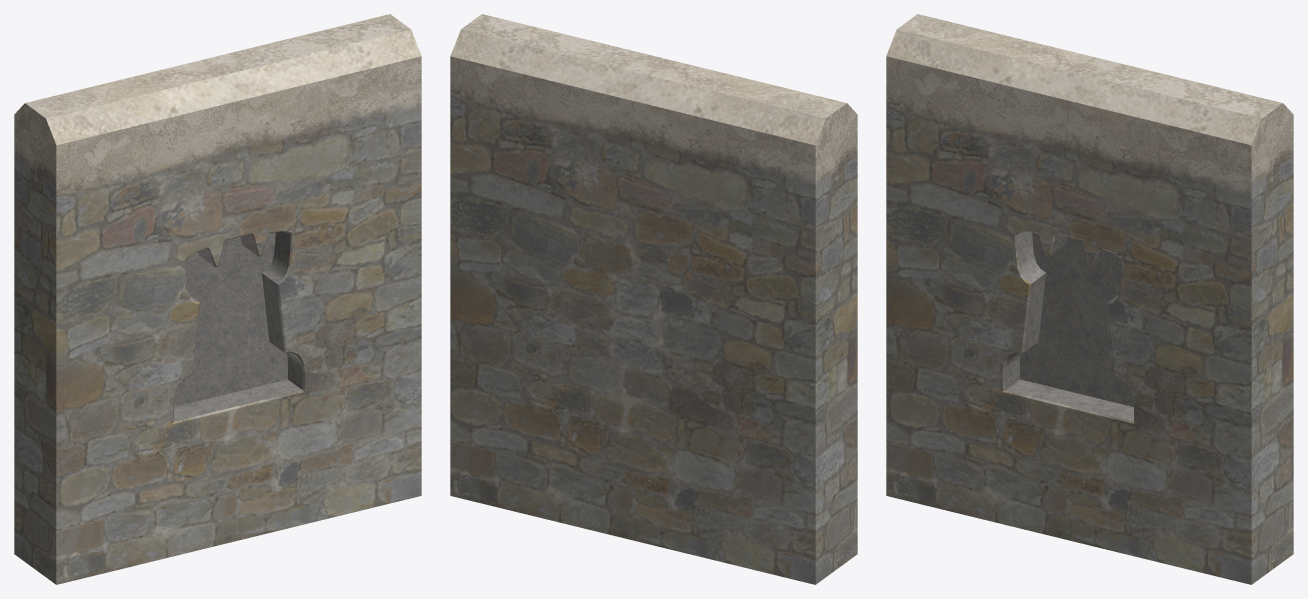
Rendered from Wall_wHole.glb.
3 views of the same model, side by side, from view 1: azimuth 30°, elevation 25°; view 2: azimuth 150°, elevation 25°; view 3: azimuth 330°, elevation 25° (orthographic).
Parts seen in each view (by area): view 1: Wall_wHole; view 2: Wall_wHole; view 3: Wall_wHole.
Boxes of the visible parts, box(x1,y1,x2,y2) form: Wall_wHole: box(14, 14, 421, 584); Wall_wHole: box(450, 14, 857, 584); Wall_wHole: box(886, 14, 1293, 584).
Size of the model in its own units: 0.025 by 0.03 by 0.005.
Materials: 2 (2 with a texture image).
